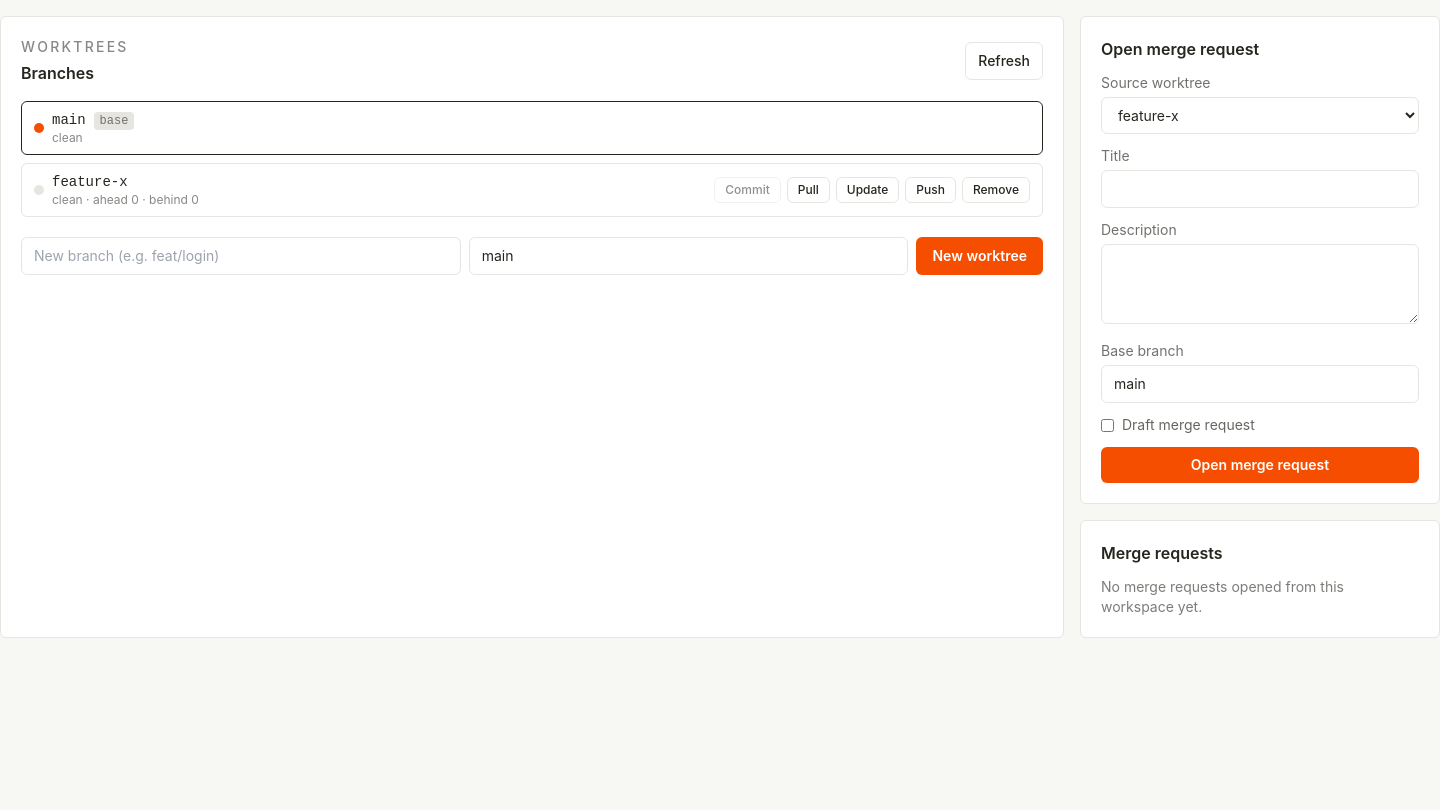
WorktreesPanel worktree switching with running services › offers to restart services running on the other branch before switching
Click the text "feature-x".
click(90, 182)  # box 52,174 -> 128,190
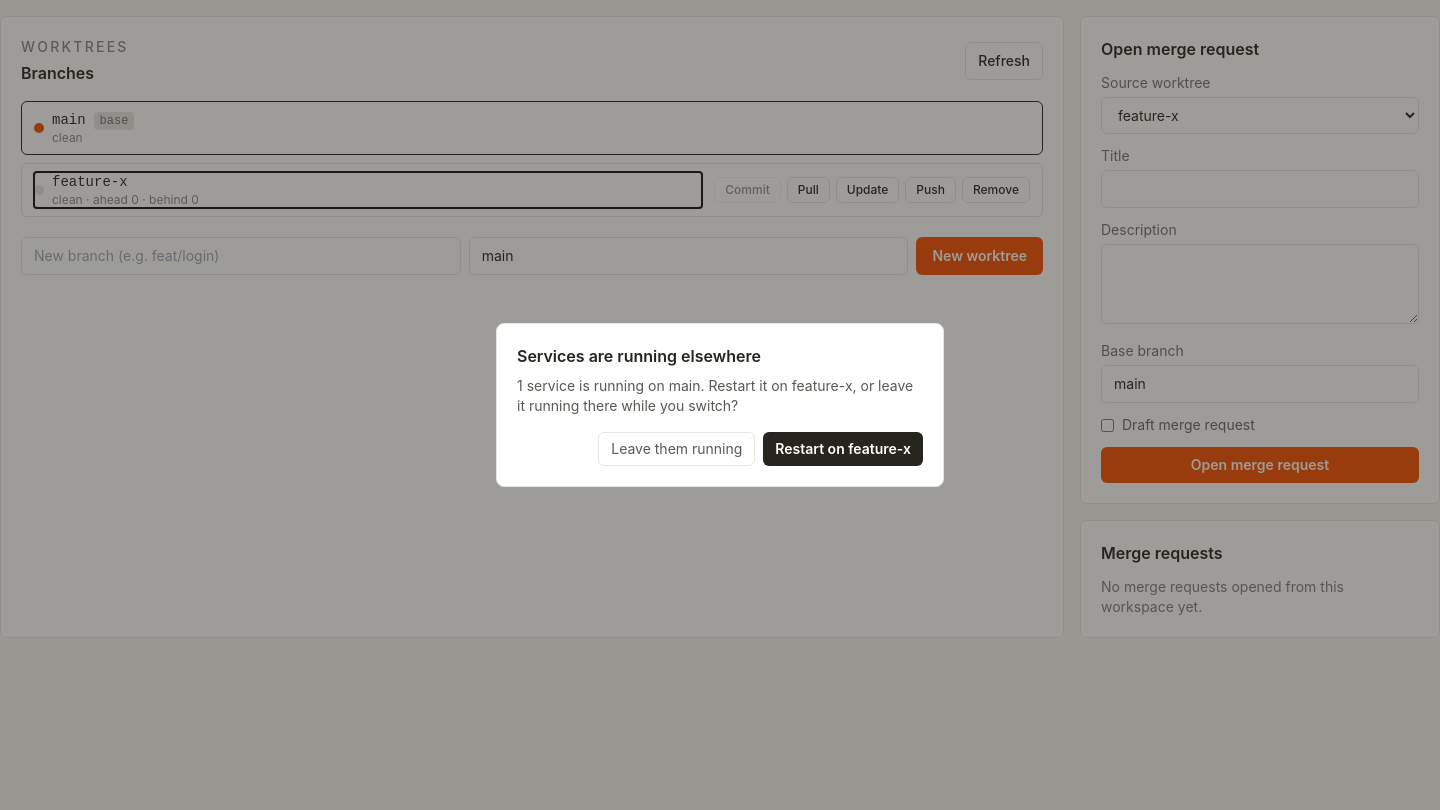
Expected: the heading "Services are running elsewhere" is shown, 517,346 -> 761,366
Expected: the text "running on main" is shown, 517,377 -> 913,414
Click the button "Restart on feature-x".
click(843, 449)  # box 763,432 -> 923,466
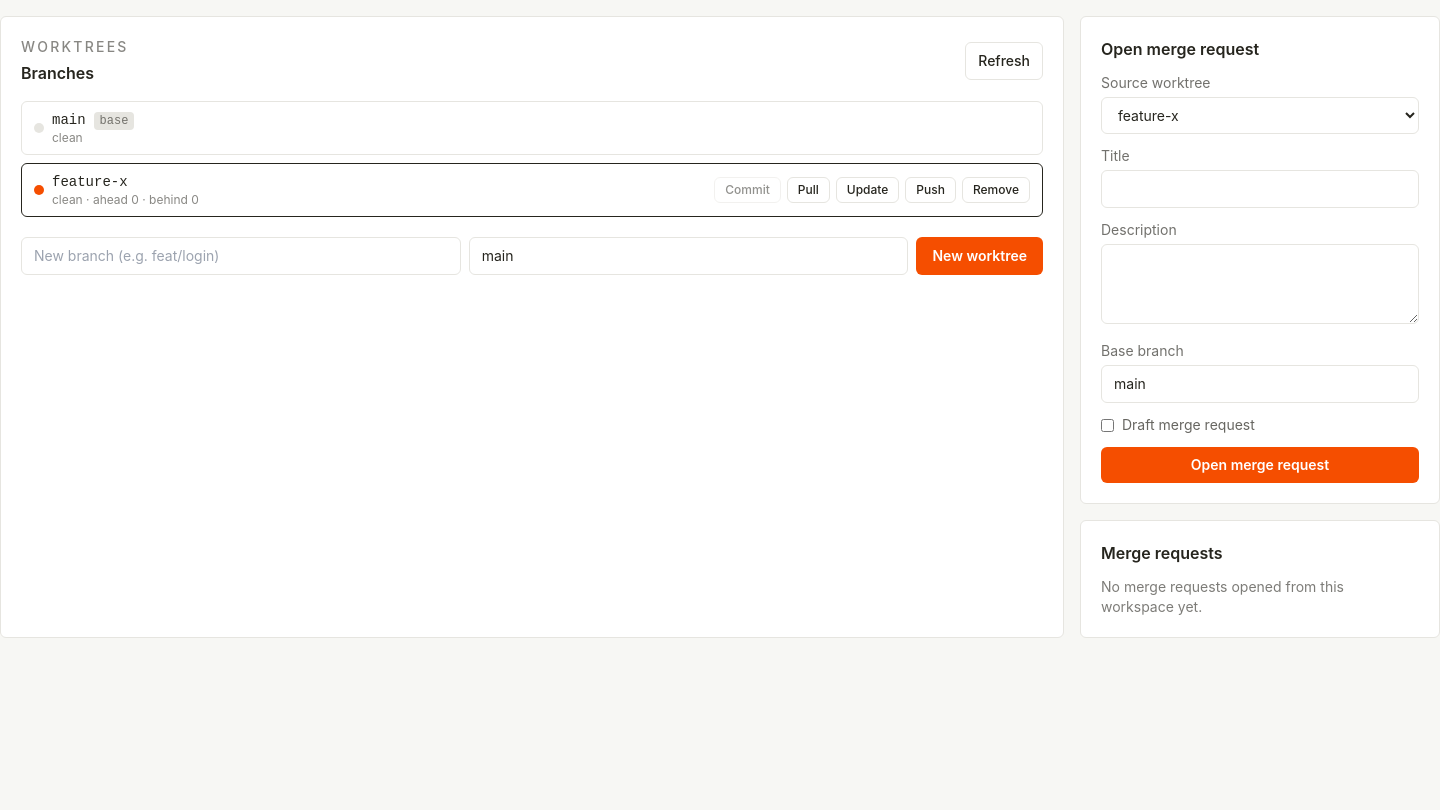
Expected: the heading "Services are running elsewhere" is gone
